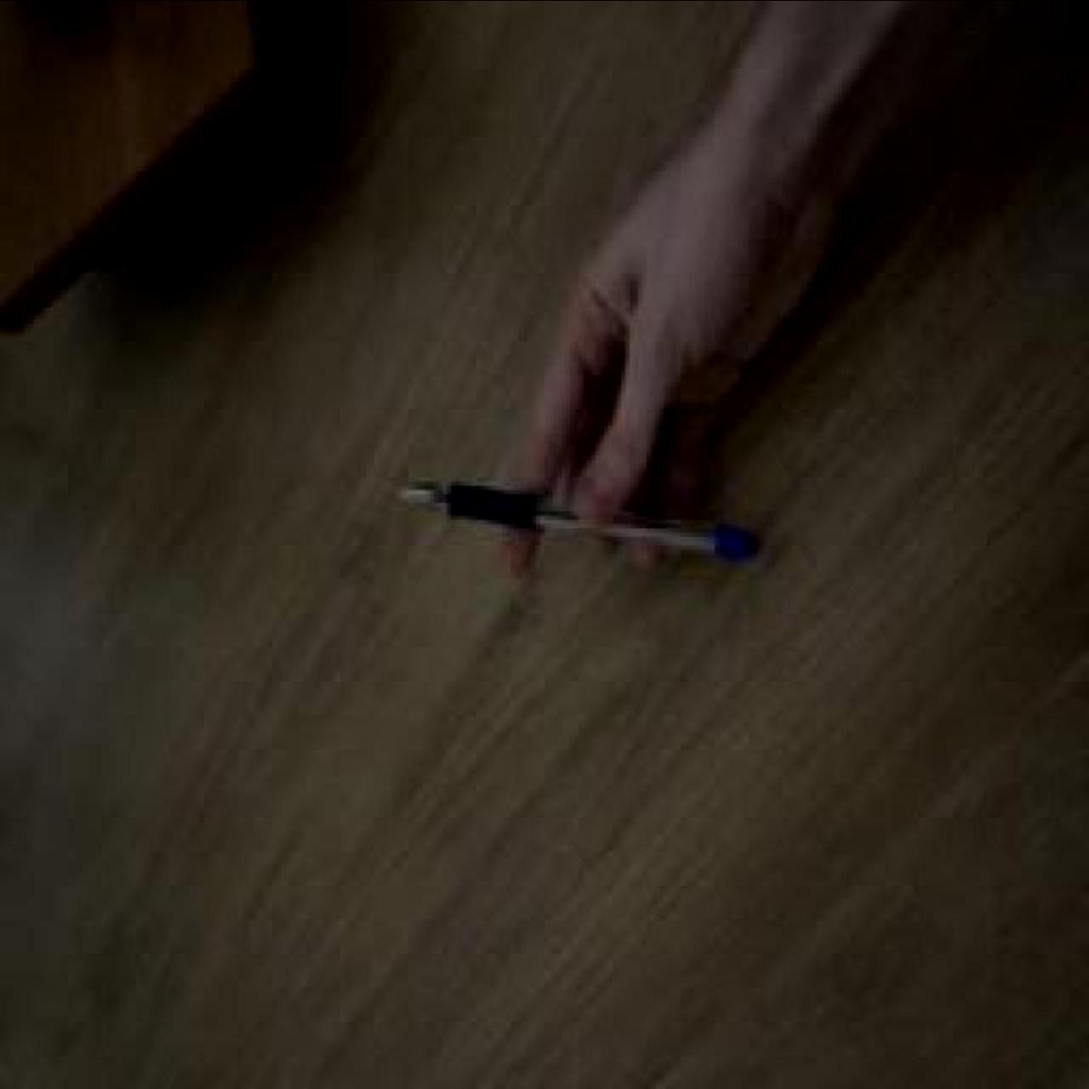pen: (396, 473, 762, 572)
